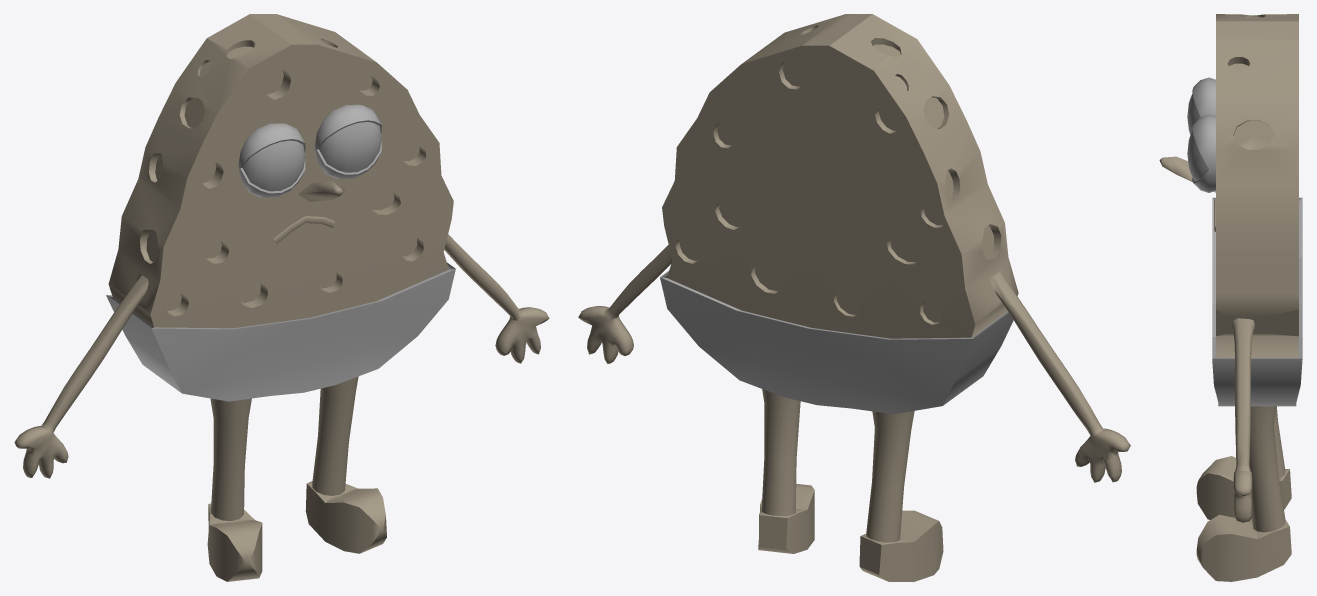
The model's file is knockoff_sponge.fbx.
3 renders of one model, left to right at view 1: azimuth 30°, elevation 25°; view 2: azimuth 150°, elevation 25°; view 3: azimuth 270°, elevation 25°, orthographic. The views are drawn at different scales.
Visible parts, largest first — view 1: pCylinder6; view 2: pCylinder6; view 3: pCylinder6.
Boxes of the visible parts, x1,y1,x2,y2 form: pCylinder6: (14,14,549,581); pCylinder6: (578,14,1130,581); pCylinder6: (1159,14,1302,581).
Bounding box in the file's own units: 134 × 126 × 31.67.
